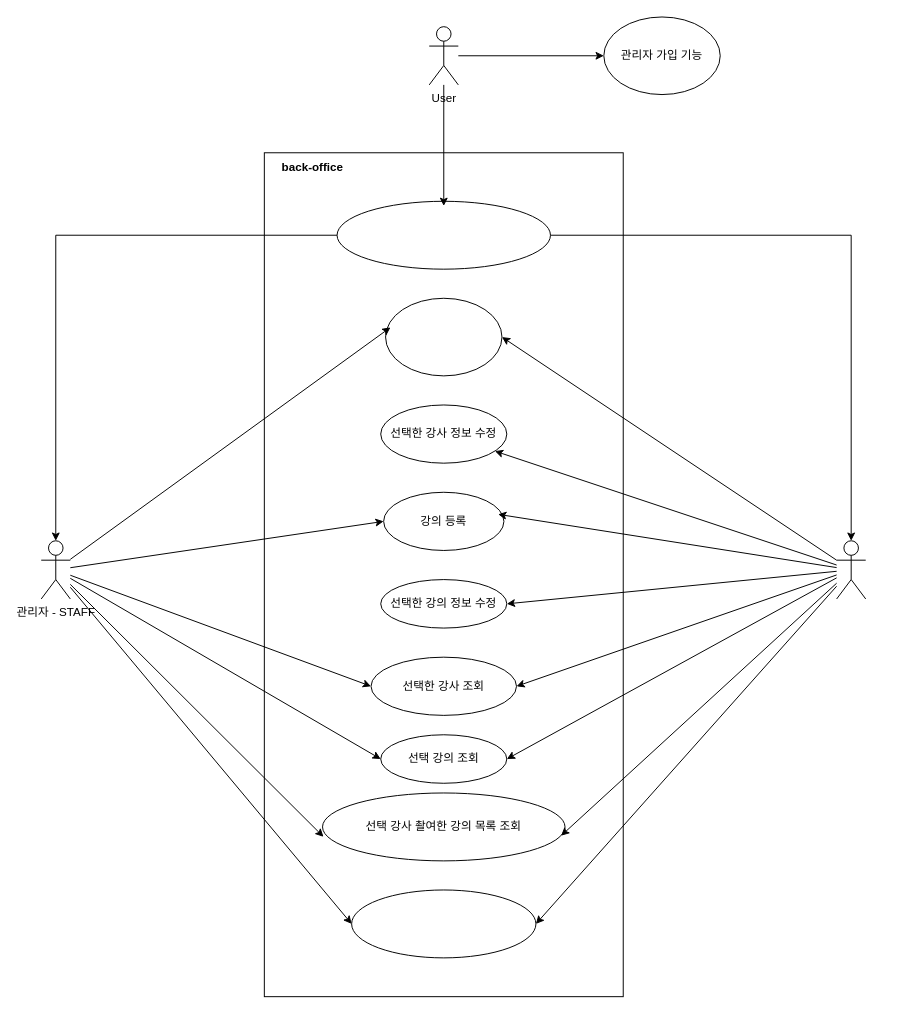
The diagram is 919 pixels wide and 1014 high, and some of its shapes have lost their labels. Each missing label, with the box of its shape:
강사 등록: (385, 297, 502, 376)
관리자 - MANAGER: (836, 540, 866, 599)
로그인 기능: (336, 200, 550, 269)
카테고리별 강의 목록 조회: (351, 889, 536, 958)
